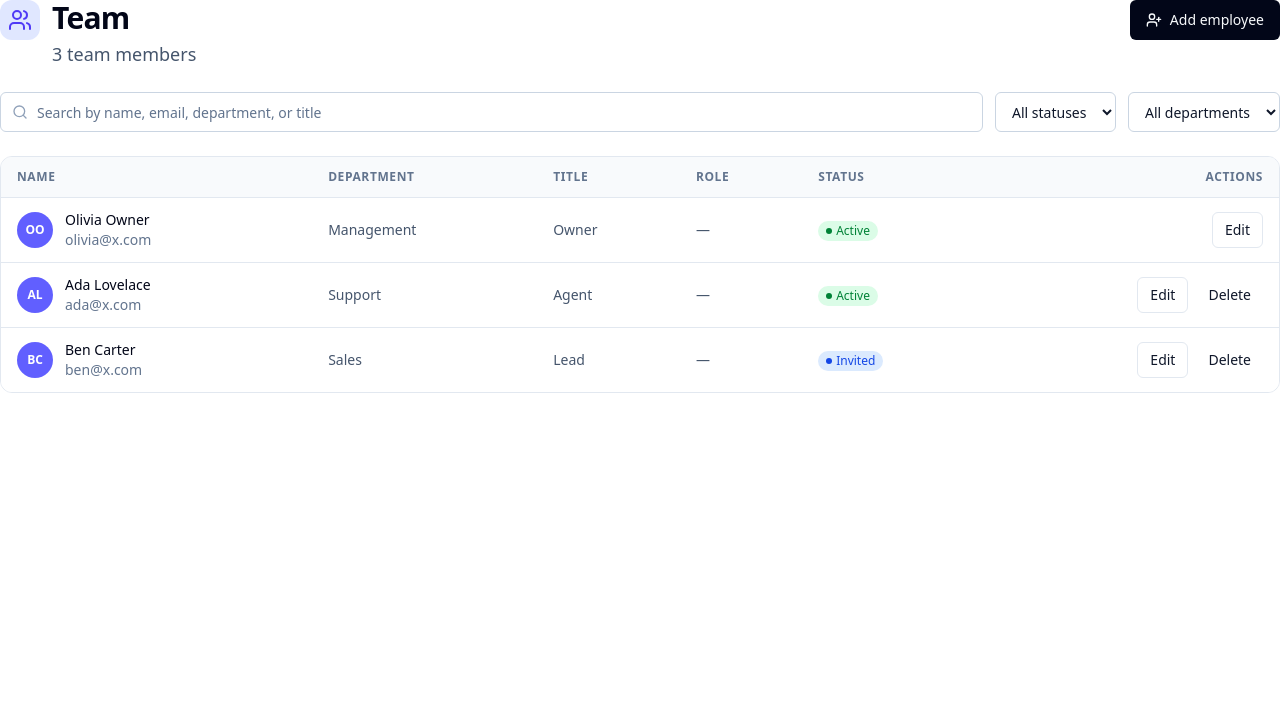
Scenario: TeamPage › keeps the form open and shows the server error when creation fails
Expected: the button "Ada Lovelace" is shown, [65, 275, 151, 295]
Click the button "Add employee" at (1205, 20), box [1130, 0, 1279, 40]
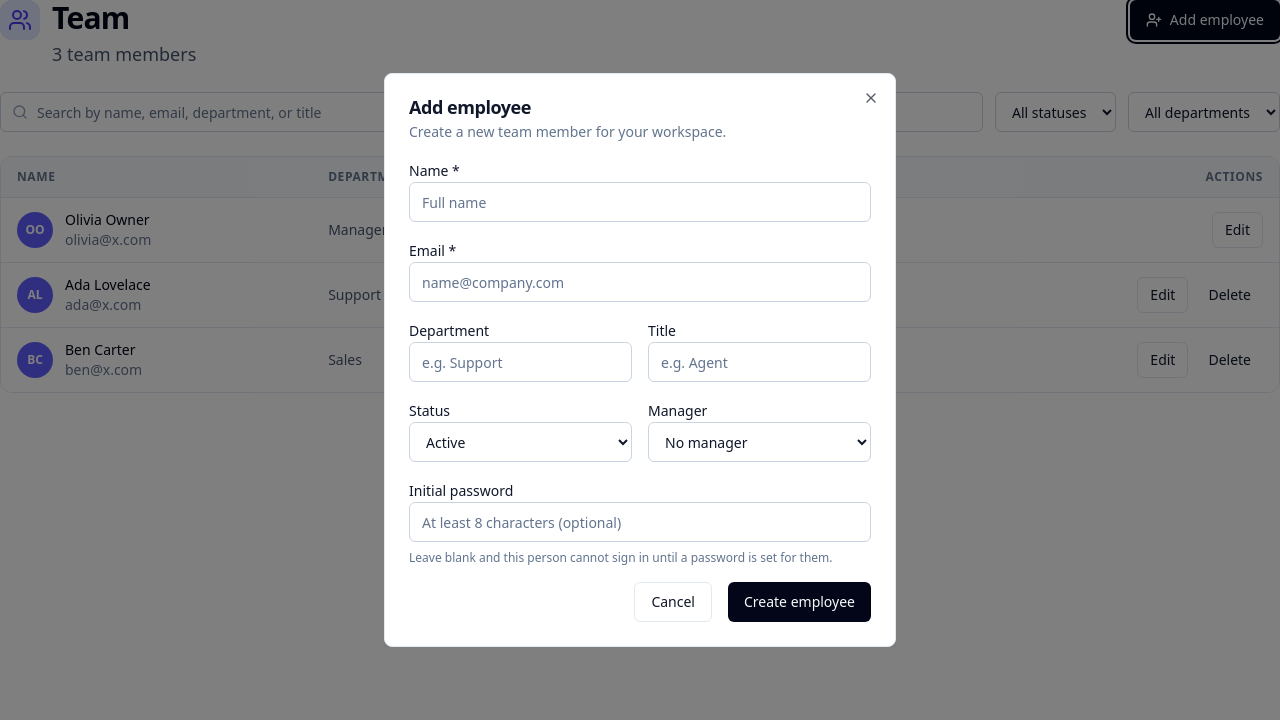
Type "Ada Again" into the field labelled "Name *" at (640, 202), box [409, 182, 871, 222]
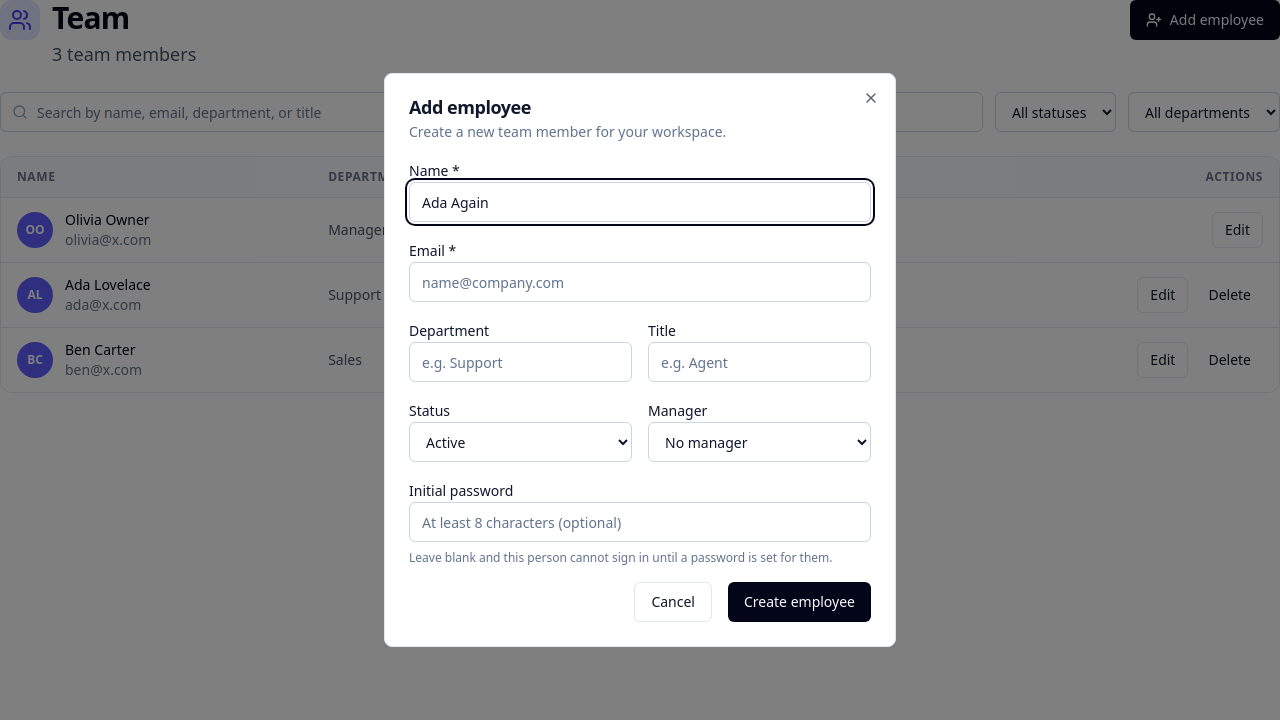
Type "ada@x.com" into the field labelled "Email *" at (640, 282), box [409, 262, 871, 302]
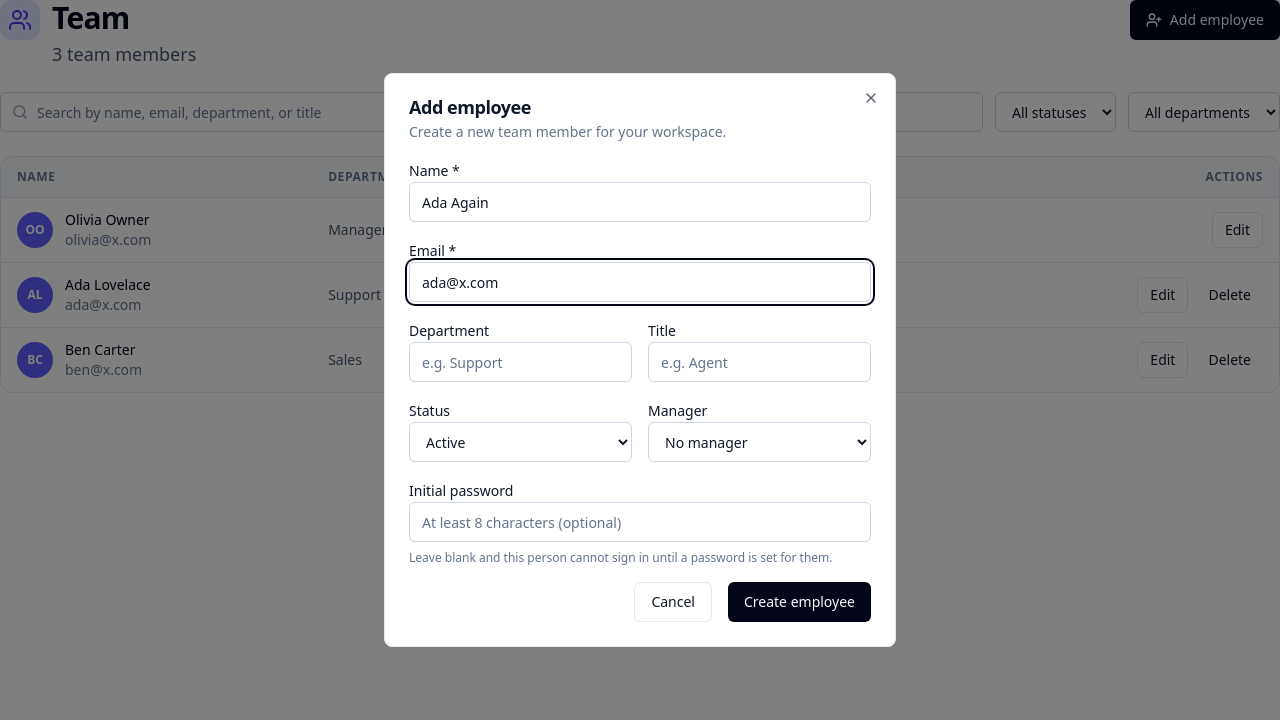
Click the button "Create employee" at (800, 602), box [728, 582, 871, 622]
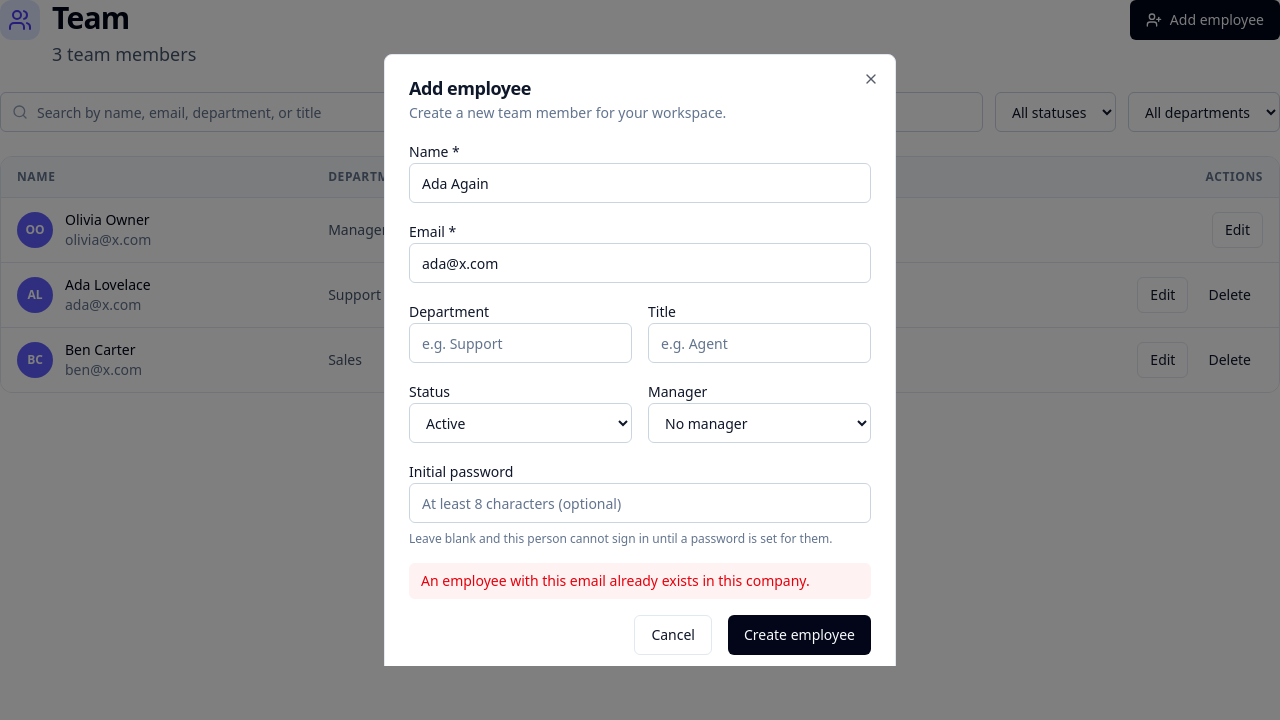
Expected: the dialog is shown
Expected: the text "An employee with this email already exists in this company." is shown, [409, 563, 871, 599]
